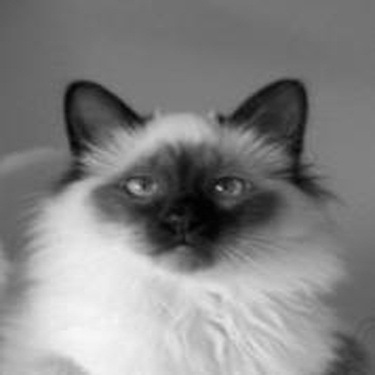cat: (21, 73, 363, 367)
